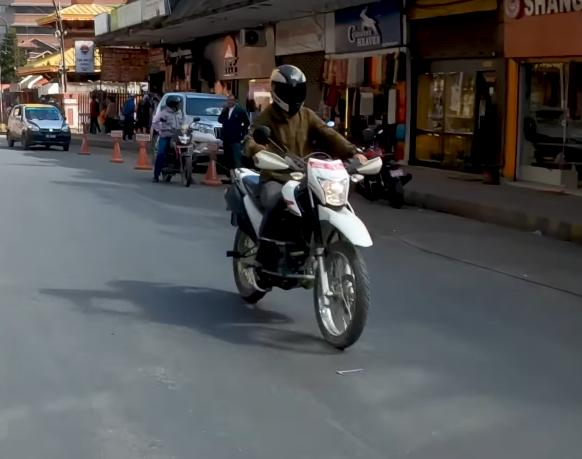bike: (223, 121, 382, 357)
